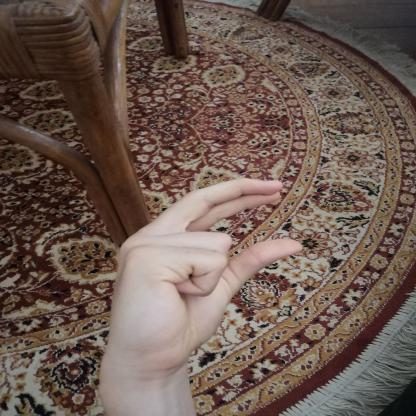DHELL: (93, 170, 315, 368)
